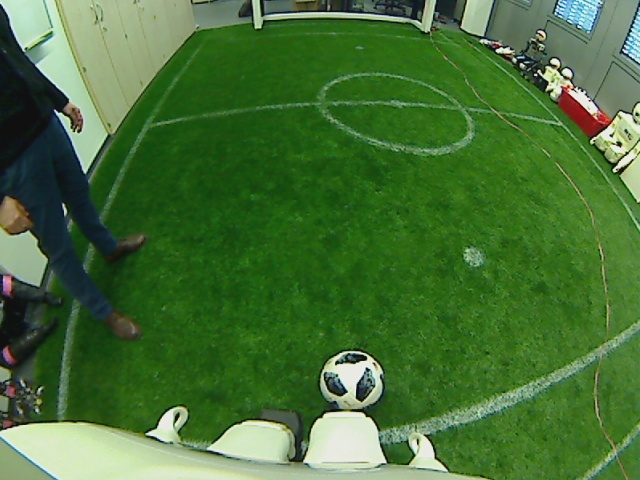ball: (316, 349, 385, 410)
